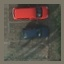car: (12, 5, 49, 21), (21, 28, 48, 41)
